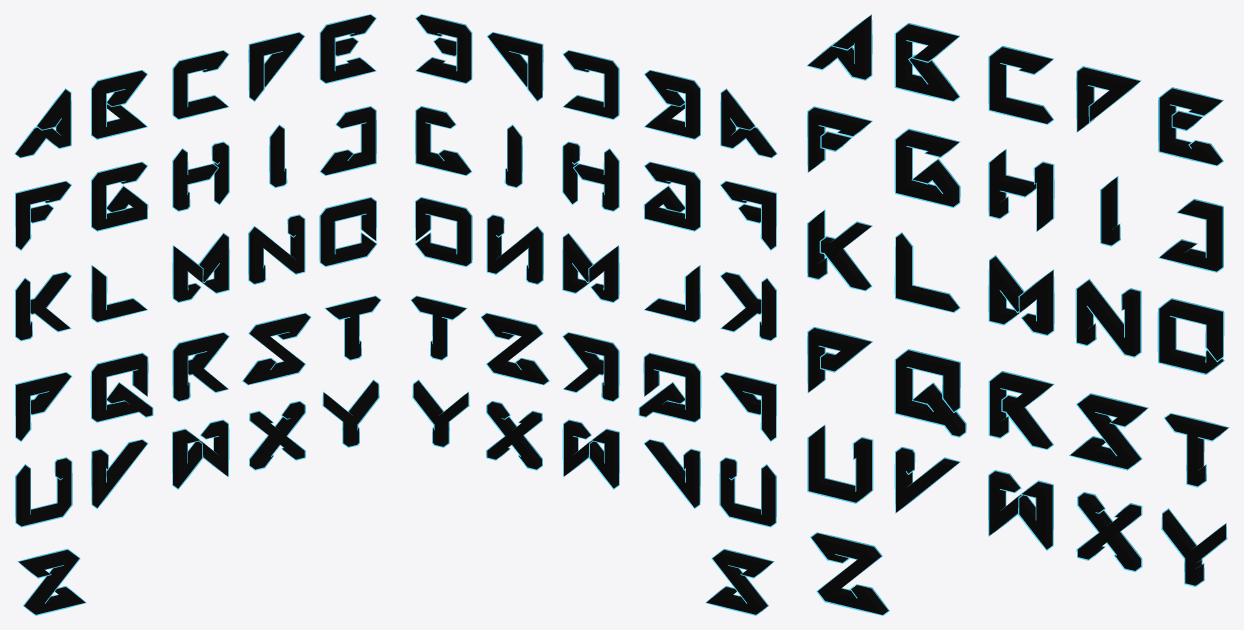
The model's file is cyberpunk_font.glb.
The picture shows the model from 3 angles, left to right: view 1: azimuth 30°, elevation 25°; view 2: azimuth 150°, elevation 25°; view 3: azimuth 330°, elevation 25°; orthographic projection. The views are drawn at different scales.
Parts seen in each view (by area): view 1: Q (×2), G (×2), O (×2), M (×2), E (×2), Z (×2), S (×2), R (×2), H (×2), U (×2), C (×2), B (+14 smaller); view 2: Q (×2), G (×2), O (×2), M (×2), E (×2), Z (×2), S (×2), R (×2), H (×2), U (×2), C (×2), B (+14 smaller); view 3: Q (×2), G (×2), O (×2), B (×2), S (×2), W (×2), M (×2), N (×2), Z (×2), E (×2), R (×2), U (×2) (+14 smaller).
Boxes of the visible parts, x1,y1,x2,y2 form: Q (×2): (90,352,153,422); G (×2): (91,161,148,231); O (×2): (319,197,377,266); M (×2): (172,233,229,302); E (×2): (319,14,376,83); Z (×2): (17,548,86,615); S (×2): (242,312,311,385); R (×2): (172,332,229,401); H (×2): (172,141,229,211); U (×2): (15,457,72,527); C (×2): (172,50,229,119); B: (92,70,146,138); Q (×2): (638,352,701,422); G (×2): (643,161,700,231); O (×2): (414,197,472,266); M (×2): (562,233,619,302); E (×2): (415,14,472,83); Z (×2): (705,548,774,615); S (×2): (480,312,549,385); R (×2): (562,332,619,401); H (×2): (562,141,619,211); U (×2): (719,457,776,527); C (×2): (562,50,619,119); B: (645,70,699,138); Q (×2): (894,349,966,437); G (×2): (894,128,960,207); O (×2): (1157,298,1224,374); B (×2): (894,23,960,101); S (×2): (1069,393,1148,470); W (×2): (988,470,1053,550); M (×2): (988,255,1054,335); N (×2): (1075,279,1141,357); Z (×2): (810,532,889,615); E (×2): (1158,87,1223,166); R (×2): (988,371,1054,449); U (×2): (807,424,873,503).
Bounding box in the file's own units: 0.408 × 0.5552 × 0.0124.
